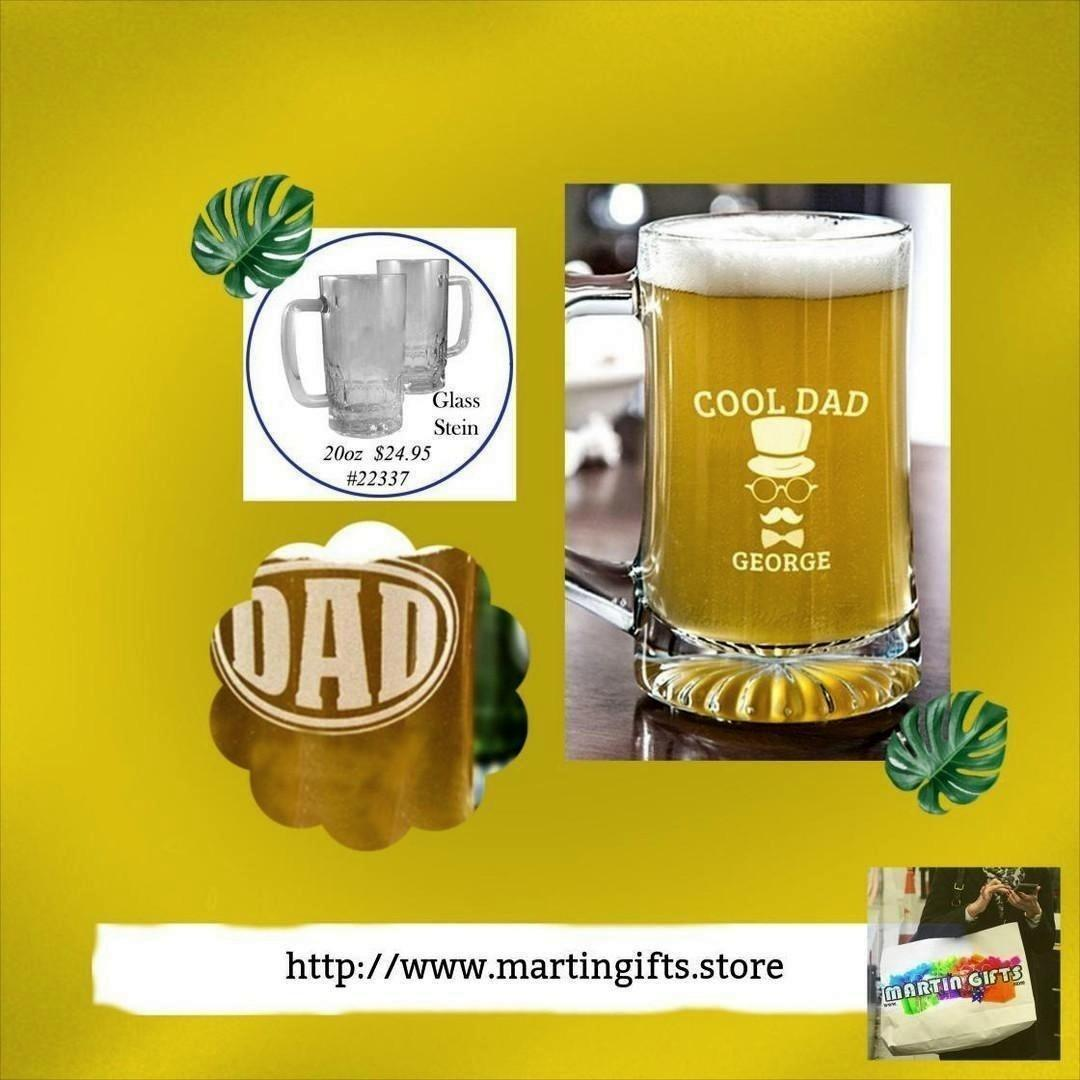glass-mug: (555, 202, 922, 738), (284, 246, 502, 438)
